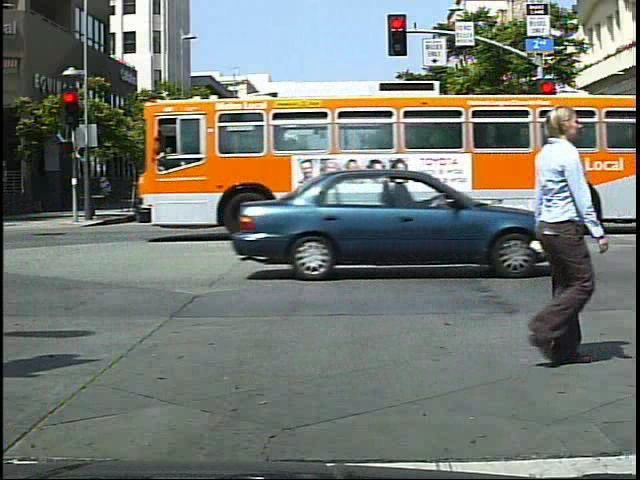person: (494, 94, 609, 396), (307, 165, 338, 229), (317, 166, 346, 230), (214, 167, 242, 233), (549, 160, 572, 211)
